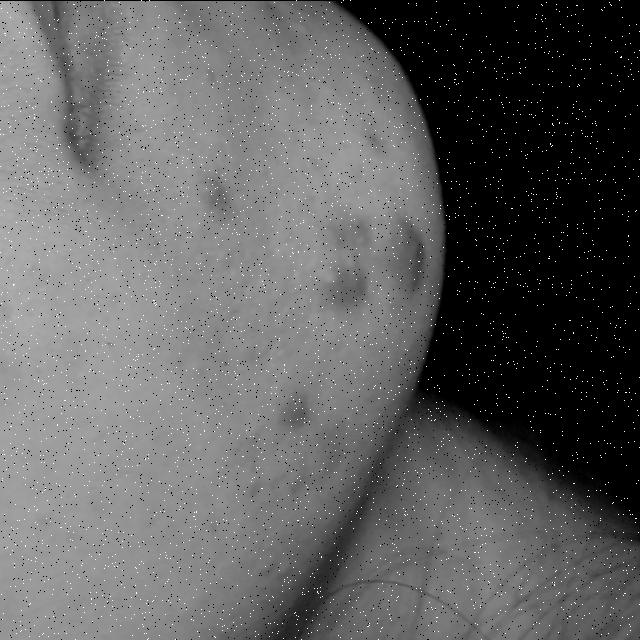nodules: (310, 200, 373, 328), (378, 202, 442, 304), (270, 369, 324, 457), (195, 155, 242, 222)
